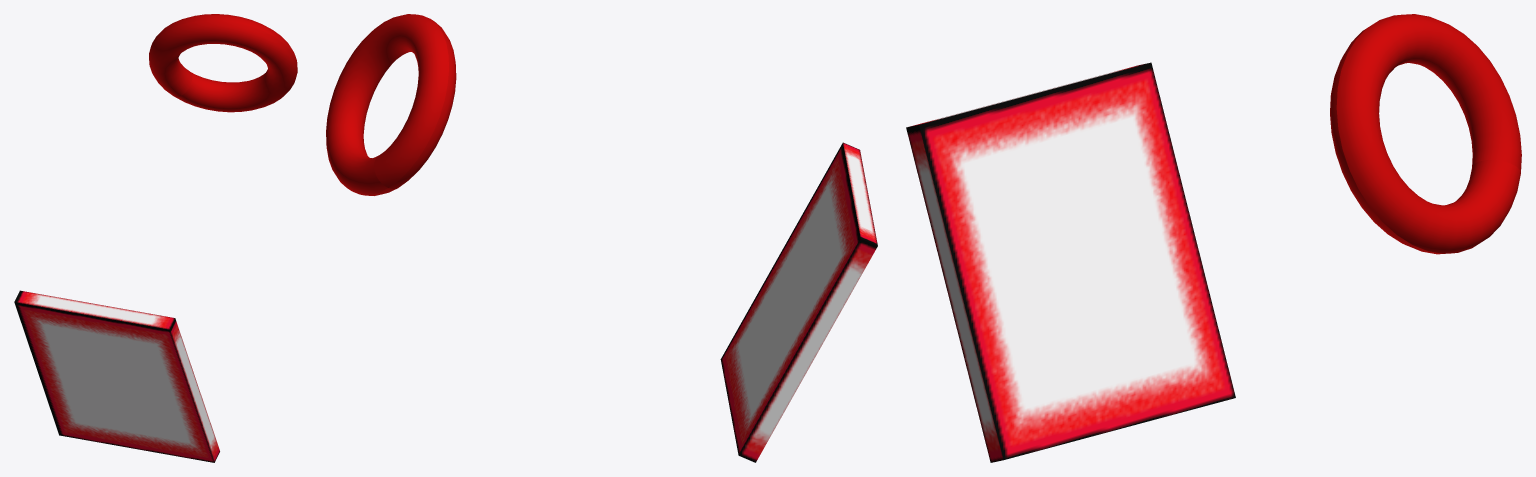
The model's file is bouncelevel1panels2.fbx.
3 renders of one model, left to right at view 1: azimuth 30°, elevation 25°; view 2: azimuth 150°, elevation 25°; view 3: azimuth 270°, elevation 25°, orthographic. The views are drawn at different scales.
Visible parts, largest first — view 1: Cube2_1; view 2: Cube2_1; view 3: Cube2_1.
Part boxes in pixels (left/top/right/bottom): Cube2_1: left=14, top=14, right=297, bottom=462; Cube2_1: left=326, top=14, right=877, bottom=462; Cube2_1: left=906, top=14, right=1521, bottom=462.
Size of what is drawn, in the model's own units: 597 by 537 by 548.
1 material, 1 textured.
